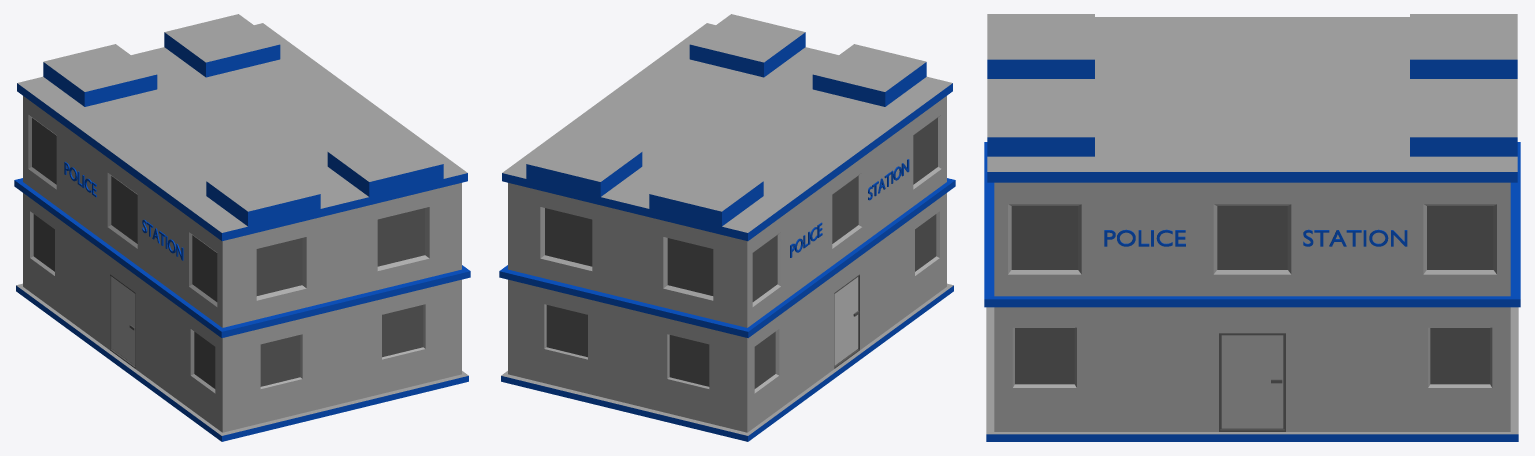
The model's file is police_station.glb.
3 renders of one model, left to right at view 1: azimuth 30°, elevation 25°; view 2: azimuth 150°, elevation 25°; view 3: azimuth 270°, elevation 25°, orthographic. The views are drawn at different scales.
Parts seen in each view (by area): view 1: POLICE STATION_Material.026_0; view 2: POLICE STATION_Material.026_0; view 3: POLICE STATION_Material.026_0.
Part boxes in pixels (bbox=[...]): POLICE STATION_Material.026_0: bbox=[14, 14, 470, 441]; POLICE STATION_Material.026_0: bbox=[499, 14, 955, 441]; POLICE STATION_Material.026_0: bbox=[984, 14, 1520, 441].
Size of the model in its own units: 2.84 by 2.44 by 4.1.
1 material, 1 textured.
